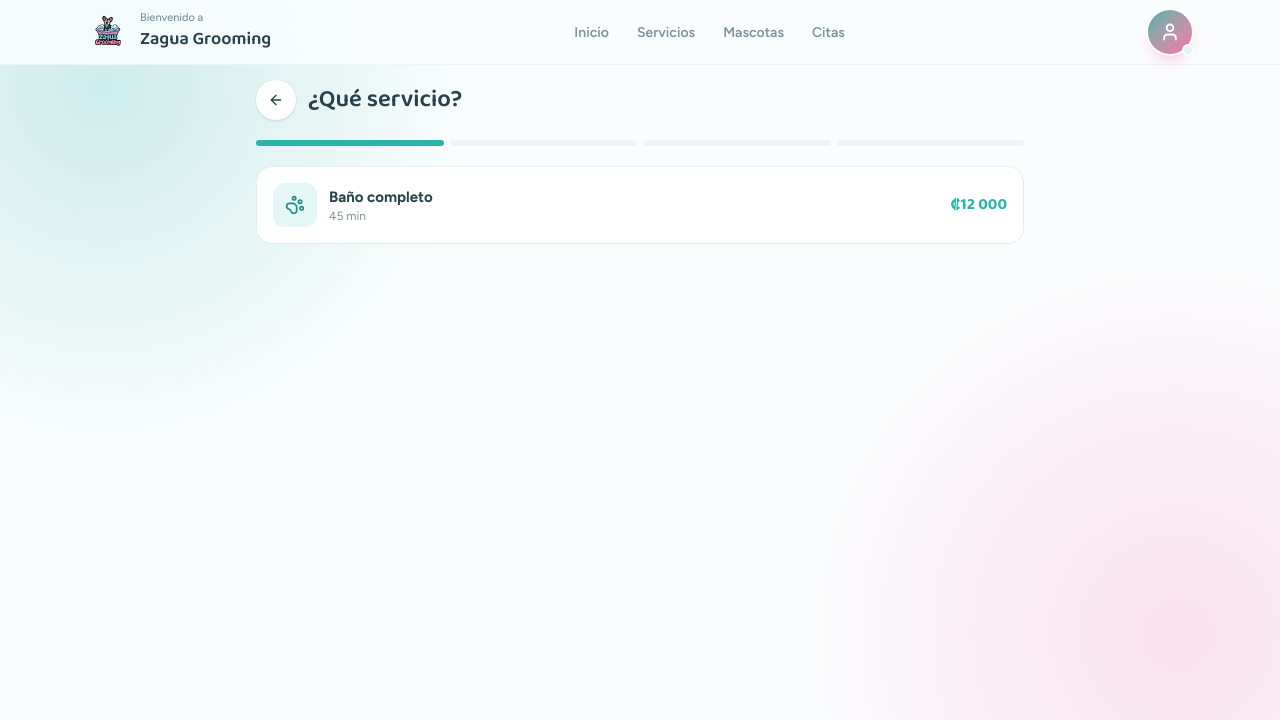
Reservar cita › avanza del paso de servicio al de mascota
Expected: the heading "¿Qué servicio?" is shown, [308,84,462,116]
Click the button "Baño completo 45 min ₡12 000" at (295, 205), box [256,166,1024,244]
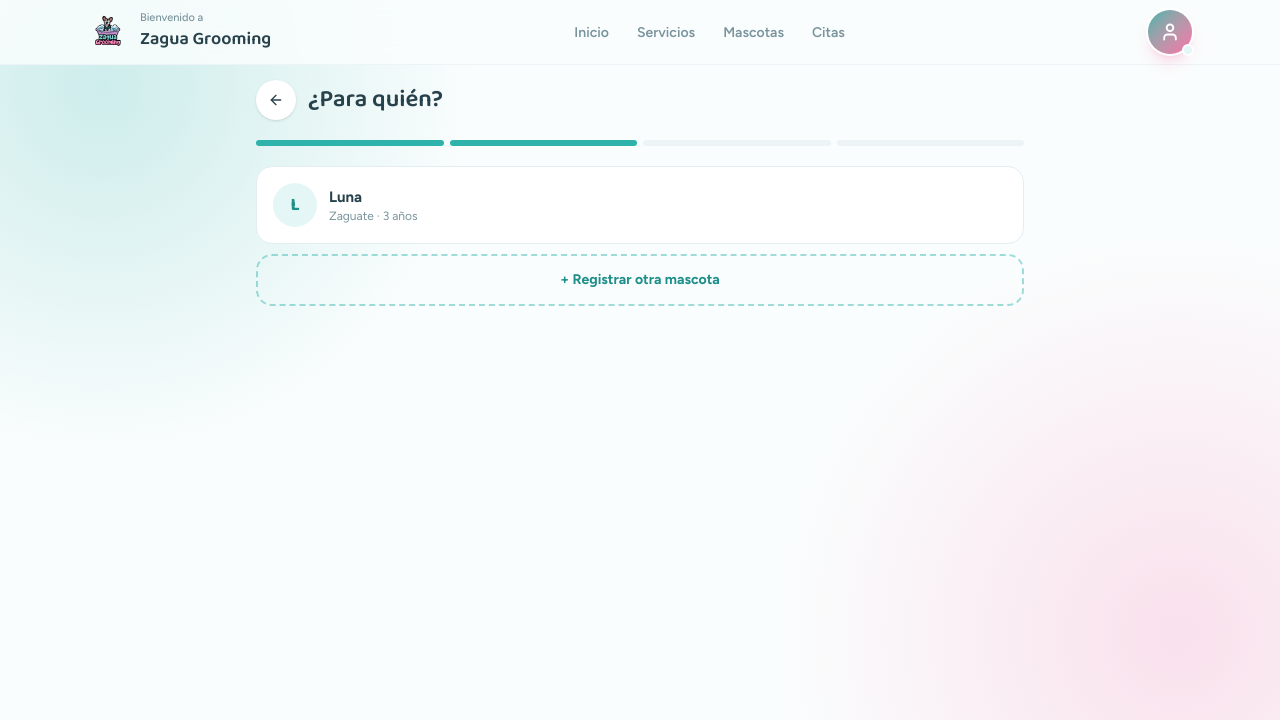
Result: the heading "¿Para quién?" is shown at [308,84,443,116]
Result: the button "L Luna Zaguate · 3 años" is shown at [256,166,1024,244]
